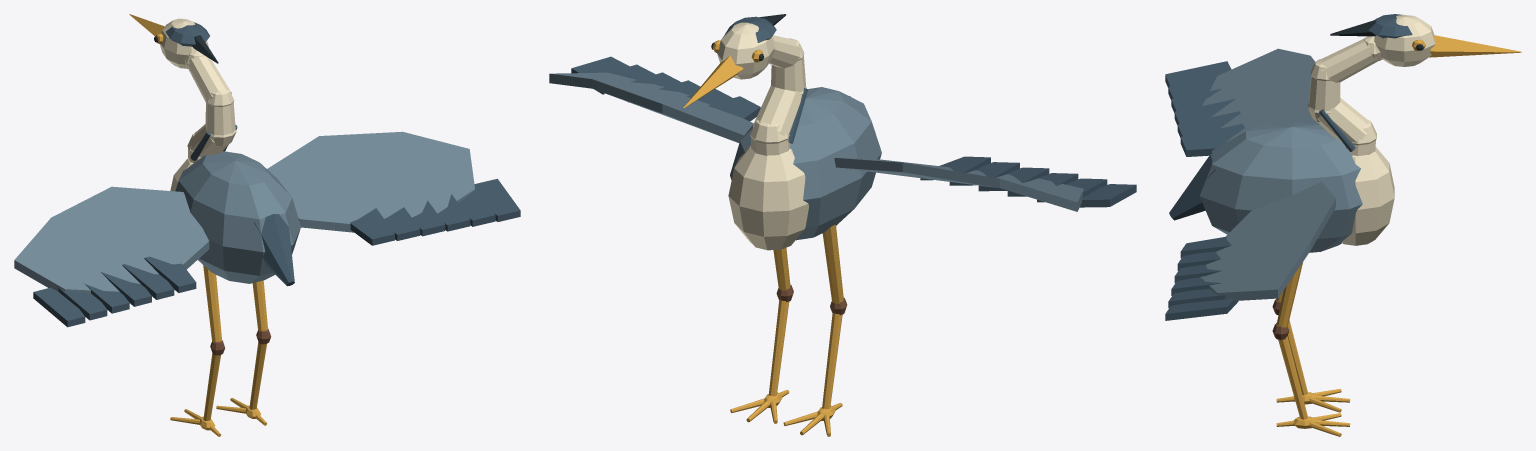
Rendered from heron.glb.
3 renders of one model, left to right at view 1: azimuth 30°, elevation 25°; view 2: azimuth 150°, elevation 25°; view 3: azimuth 270°, elevation 25°, orthographic. The views are drawn at different scales.
Parts seen in each view (by area): view 1: WingR, WingL, Body, Neck, Head, LegL, LegR; view 2: Body, WingR, WingL, Neck, Head, LegL, LegR; view 3: Body, WingR, WingL, Neck, Head, LegR, LegL.
Part boxes in pixels (box(x1,y1,x2,y2)): WingR: box(267, 131, 520, 245); WingL: box(14, 186, 209, 327); Body: box(170, 151, 300, 286); Neck: box(184, 50, 237, 162); Head: box(129, 14, 218, 68); LegL: box(170, 265, 224, 436); LegR: box(216, 280, 271, 425); Body: box(728, 87, 881, 250); WingR: box(549, 56, 760, 142); WingL: box(834, 156, 1136, 211); Neck: box(750, 35, 807, 155); Head: box(683, 14, 785, 108); LegL: box(783, 224, 847, 436); LegR: box(730, 248, 793, 423); Body: box(1169, 122, 1394, 252); WingR: box(1165, 182, 1335, 320); WingL: box(1165, 48, 1319, 156); Neck: box(1308, 36, 1382, 156); Head: box(1330, 14, 1521, 66); LegR: box(1272, 262, 1350, 436); LegL: box(1272, 291, 1350, 412).
Size of the model in its own units: 2.06 by 1.56 by 1.26.
